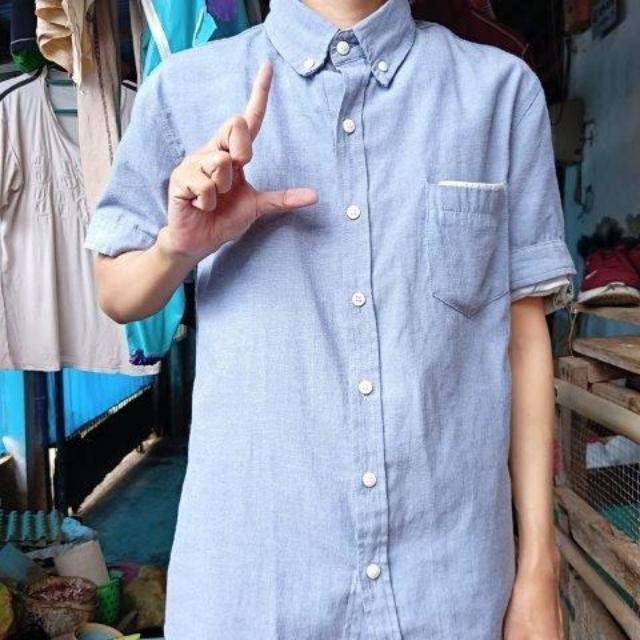L: (172, 53, 320, 246)
